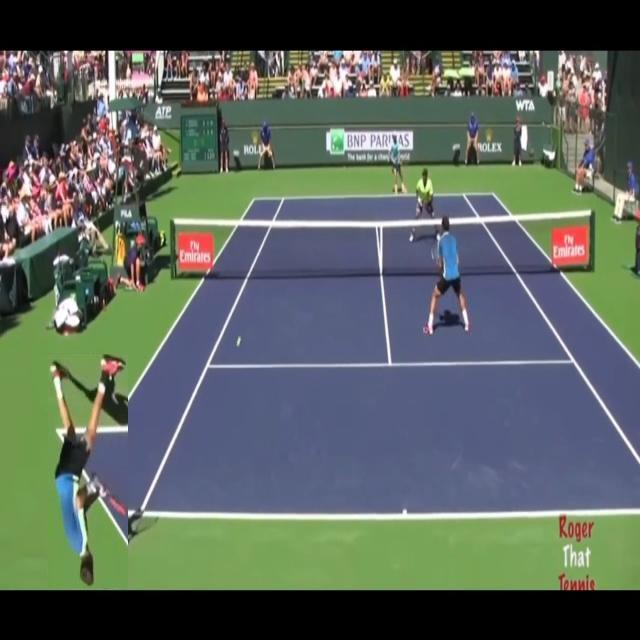court: (53, 192, 640, 520)
net: (170, 202, 597, 282)
player: (48, 354, 128, 588), (424, 214, 472, 338)
